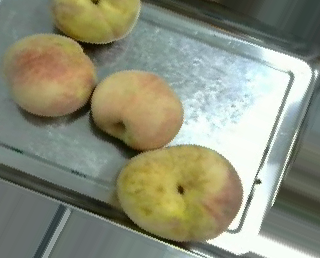Peach: (114, 144, 243, 242), (3, 34, 96, 117), (91, 70, 184, 150), (51, 0, 143, 43)
